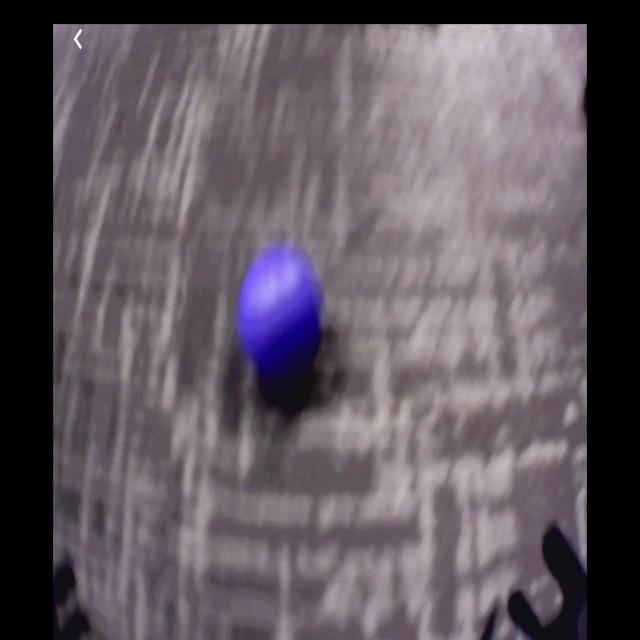ball: (240, 250, 319, 372)
